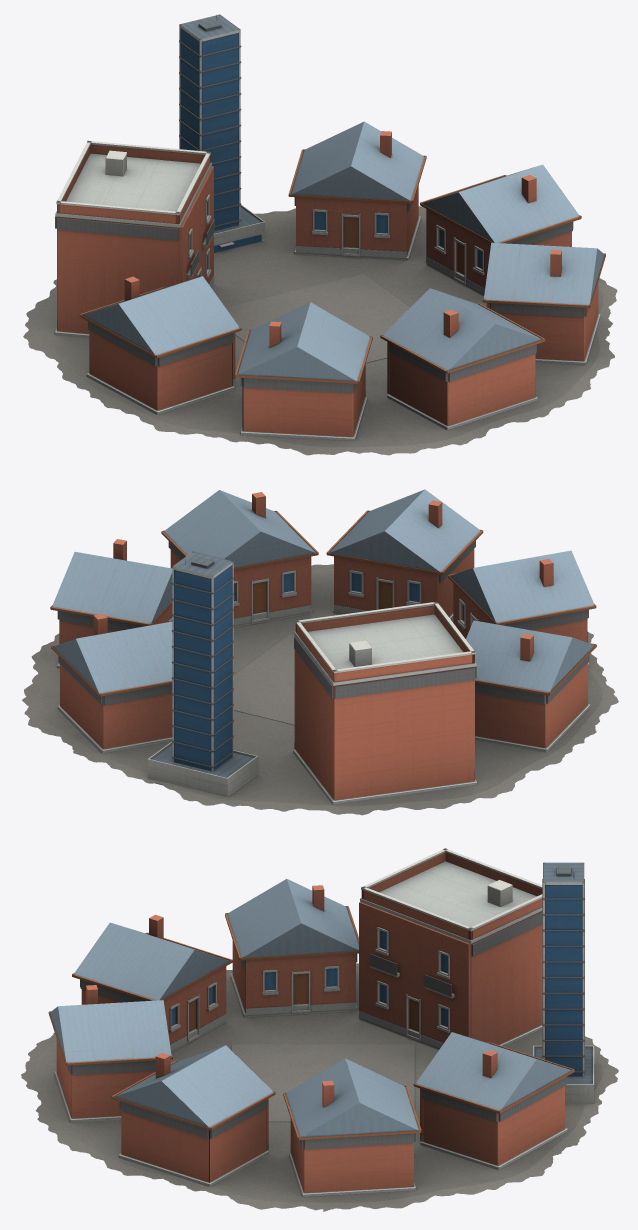
The model's file is modern-town-small-a-europe.glb.
3 views of the same model, one above another, from view 1: azimuth 30°, elevation 25°; view 2: azimuth 150°, elevation 25°; view 3: azimuth 270°, elevation 25° (orthographic).
Visible parts, largest first — view 1: LOD0; view 2: LOD0; view 3: LOD0.
Part boxes in pixels (bbox=[...]): LOD0: bbox=[23, 14, 617, 455]; LOD0: bbox=[22, 489, 618, 815]; LOD0: bbox=[21, 848, 618, 1211].
Size of what is drawn, in the model's own units: 3.94 by 1.6 by 4.01.
3 materials, 3 textured.
